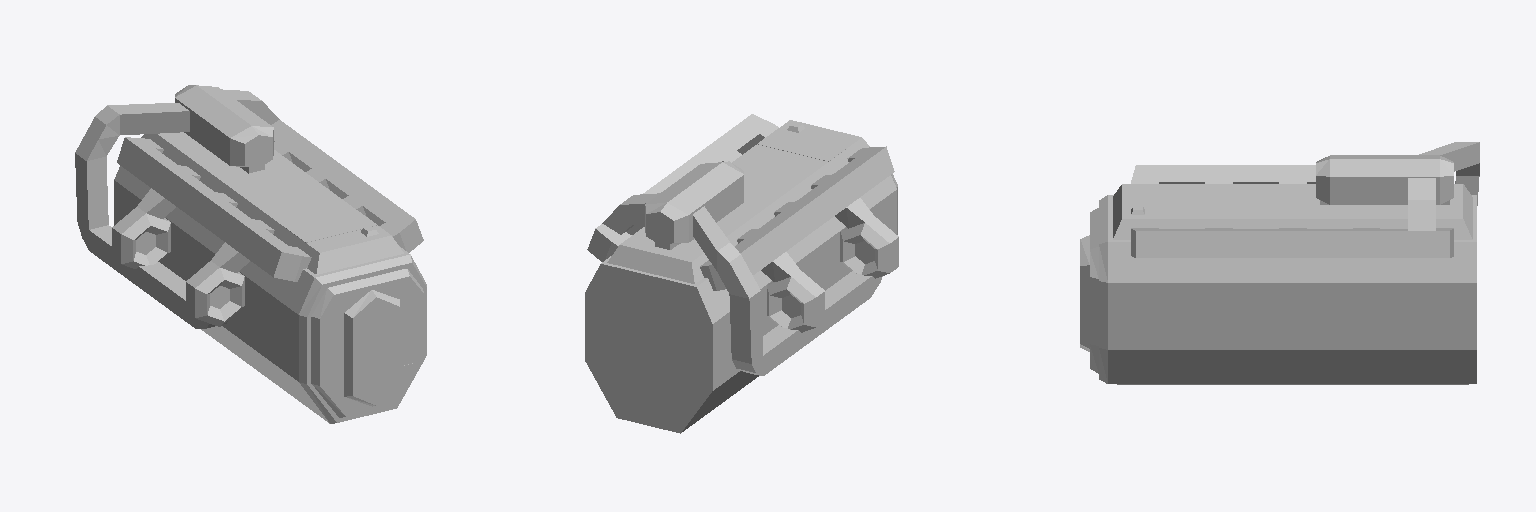
Rendered from v5performantemanual.obj.
3 views of the same model, side by side, from view 1: azimuth 30°, elevation 25°; view 2: azimuth 150°, elevation 25°; view 3: azimuth 270°, elevation 25° (orthographic).
Parts seen in each view (by area): view 1: end, middle, turbo, inject, start, injectend; view 2: start, middle, turbo, inject, end; view 3: middle, end, start, inject, turbo, injectend.
Part boxes in pixels (x1,y1,x2,y2): end: (250, 203, 426, 423); middle: (140, 122, 392, 395); turbo: (75, 103, 249, 328); inject: (175, 85, 279, 165); start: (114, 120, 281, 225); injectend: (230, 126, 273, 173); start: (585, 224, 760, 433); middle: (633, 131, 871, 405); turbo: (693, 198, 898, 375); inject: (602, 162, 743, 249); end: (729, 114, 897, 234); middle: (1182, 165, 1402, 384); end: (1080, 165, 1188, 384); start: (1403, 184, 1476, 384); inject: (1330, 155, 1453, 230); turbo: (1419, 142, 1479, 205); injectend: (1316, 156, 1329, 204).
Size of the model in its own units: 0.7508 by 0.7989 by 1.35.